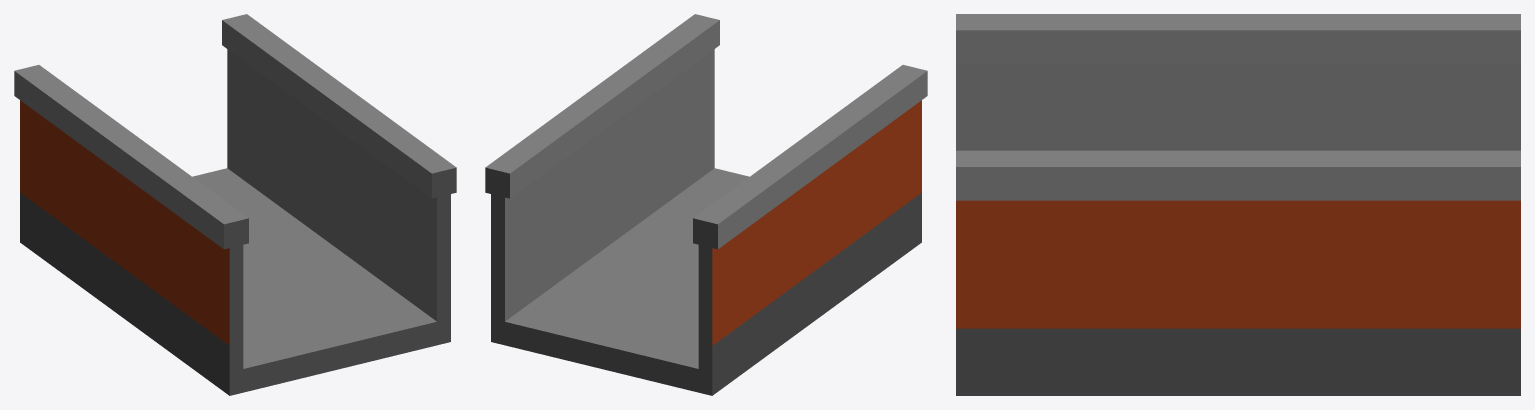
The model's file is Building_02.fbx.
3 renders of one model, left to right at view 1: azimuth 30°, elevation 25°; view 2: azimuth 150°, elevation 25°; view 3: azimuth 270°, elevation 25°, orthographic. The views are drawn at different scales.
Parts seen in each view (by area): view 1: Building_02; view 2: Building_02; view 3: Building_02.
Part boxes in pixels (bbox=[...]): Building_02: bbox=[14, 14, 456, 395]; Building_02: bbox=[485, 14, 927, 395]; Building_02: bbox=[956, 14, 1520, 395].
Size of the model in its own units: 430 by 305 by 672.
1 material, 1 textured.
